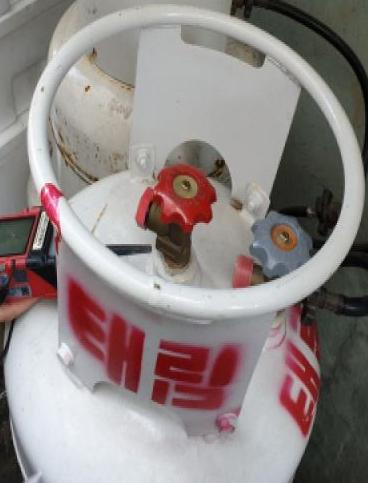cylinder: (1, 1, 368, 483)
